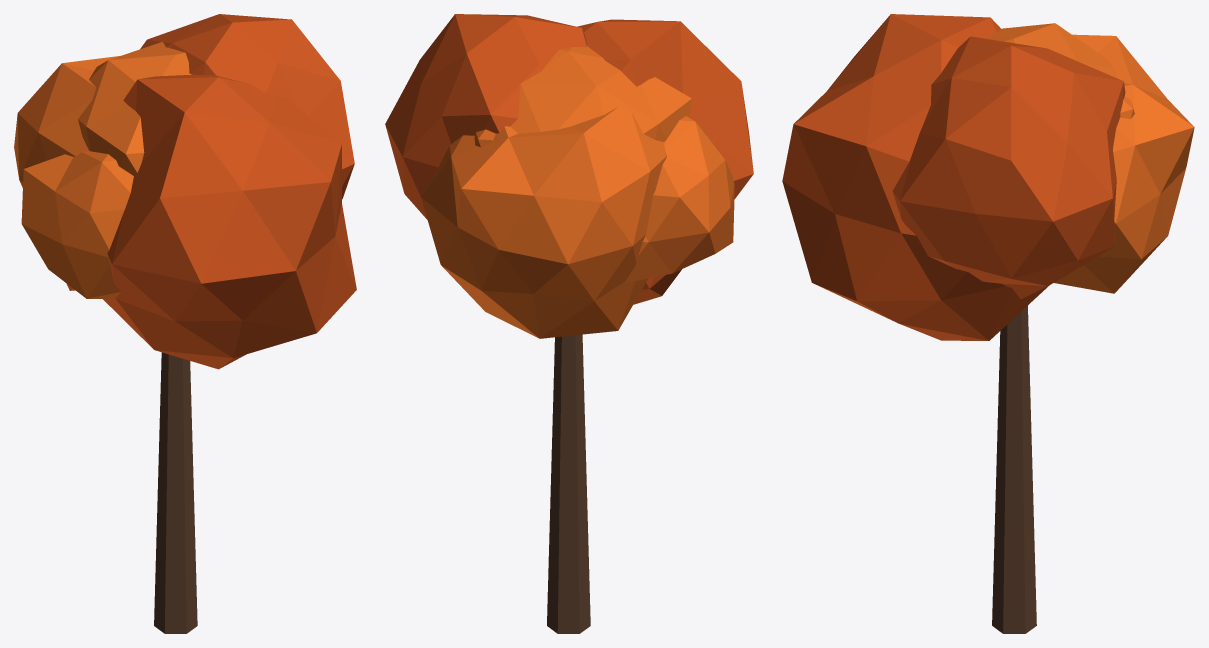
File: tree_autumn_orange.glb
3 renders of one model, left to right at view 1: azimuth 30°, elevation 25°; view 2: azimuth 150°, elevation 25°; view 3: azimuth 270°, elevation 25°, orthographic. The views are drawn at different scales.
Parts seen in each view (by area): view 1: tree_autumn_orange; view 2: tree_autumn_orange; view 3: tree_autumn_orange.
Boxes of the visible parts, box(x1,y1,x2,y2) form: tree_autumn_orange: box(14, 14, 356, 633); tree_autumn_orange: box(385, 14, 753, 633); tree_autumn_orange: box(782, 14, 1194, 633).
Size of the model in its own units: 5.18 by 9.41 by 5.79.
